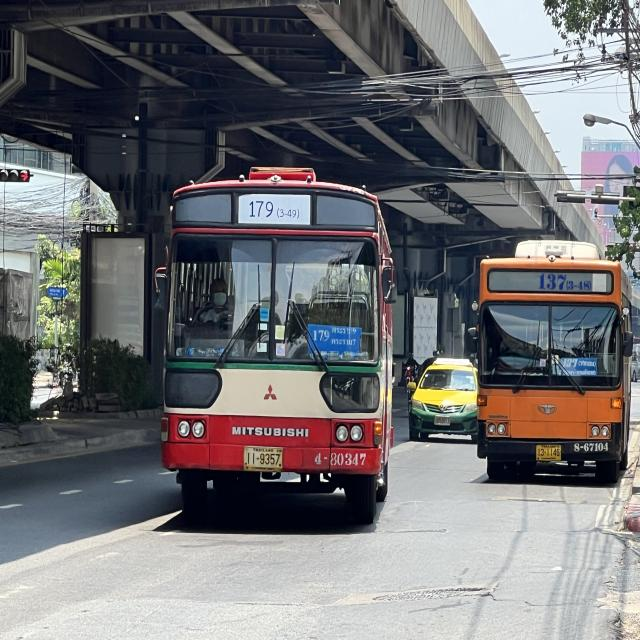BMTA-bus: (157, 159, 397, 530), (476, 236, 634, 486)
Bus-Line-Number: (239, 194, 310, 224), (536, 271, 592, 292)
Destination-Sign-Normal: (308, 325, 362, 361), (559, 357, 597, 376)
